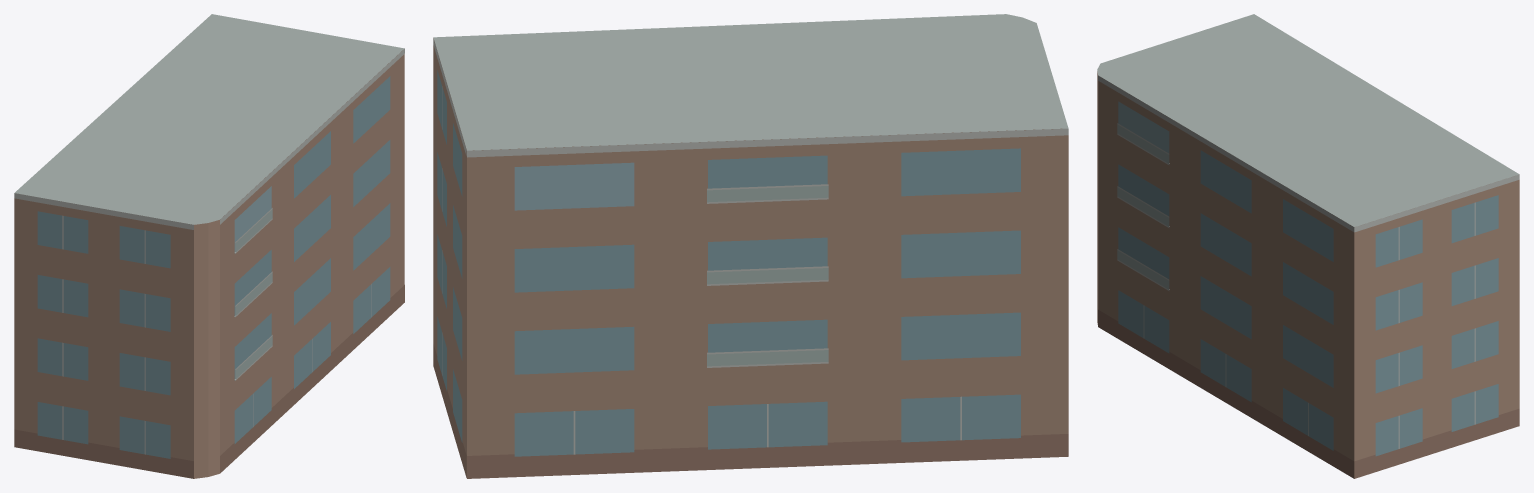
File: survey-upis-32828969.glb
The picture shows the model from 3 angles, left to right: view 1: azimuth 30°, elevation 25°; view 2: azimuth 150°, elevation 25°; view 3: azimuth 270°, elevation 25°; orthographic projection. The views are drawn at different scales.
Parts seen in each view (by area): view 1: survey-upis-32828969.tmp; view 2: survey-upis-32828969.tmp; view 3: survey-upis-32828969.tmp.
Part boxes in pixels (bbox=[...]): survey-upis-32828969.tmp: bbox=[14, 14, 404, 478]; survey-upis-32828969.tmp: bbox=[433, 14, 1068, 478]; survey-upis-32828969.tmp: bbox=[1097, 14, 1519, 478].
Bounding box in the file's own units: 21.27 × 11.7 × 17.8.
